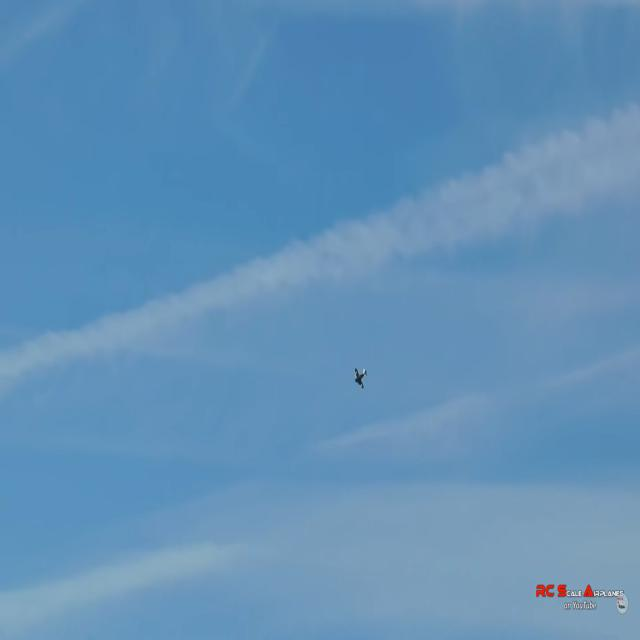iha: (354, 362, 369, 391)
